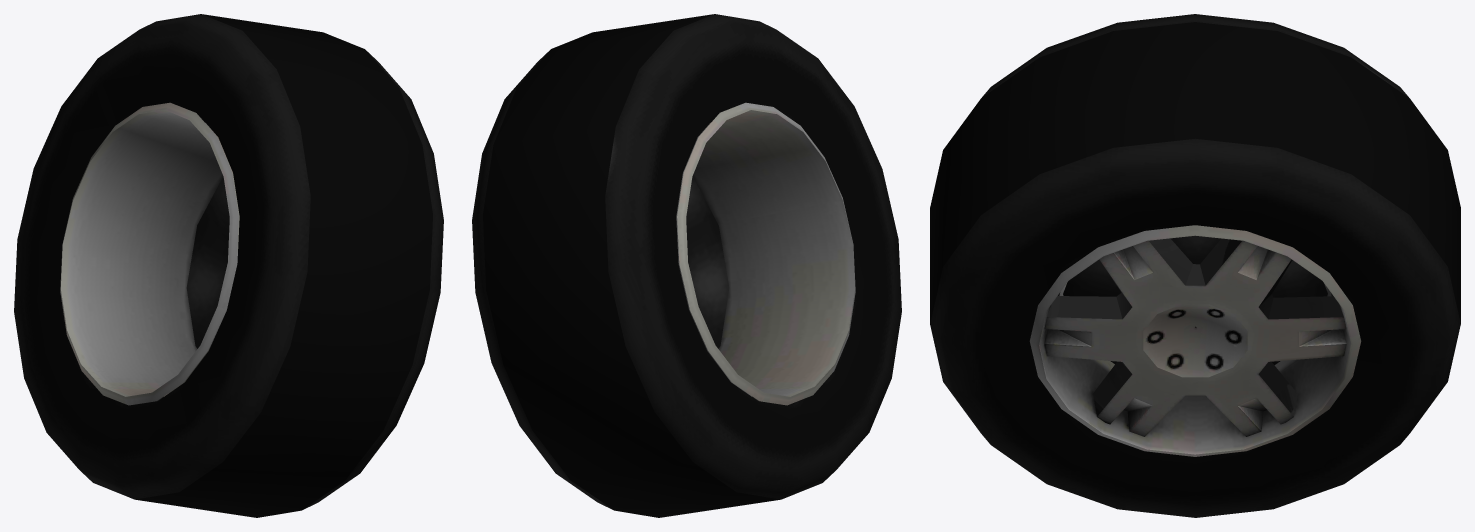
The model's file is suv_wheel.glb.
3 views of the same model, side by side, from view 1: azimuth 30°, elevation 25°; view 2: azimuth 150°, elevation 25°; view 3: azimuth 270°, elevation 25° (orthographic). The views are drawn at different scales.
Visible parts, largest first — view 1: FL_2; view 2: FL_2; view 3: FL_2.
Part boxes in pixels (left/top/right/bottom): FL_2: left=14, top=14, right=443, bottom=517; FL_2: left=472, top=14, right=901, bottom=517; FL_2: left=930, top=14, right=1460, bottom=517.
Size of the model in its own units: 28.5 by 42.14 by 40.35.
2 materials, 2 textured.
